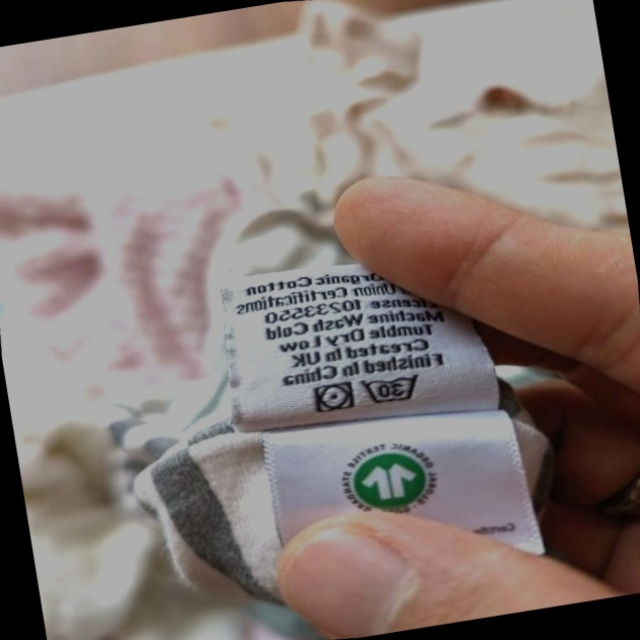30C: (355, 364, 428, 414)
tumble_dry_low: (308, 375, 360, 420)
